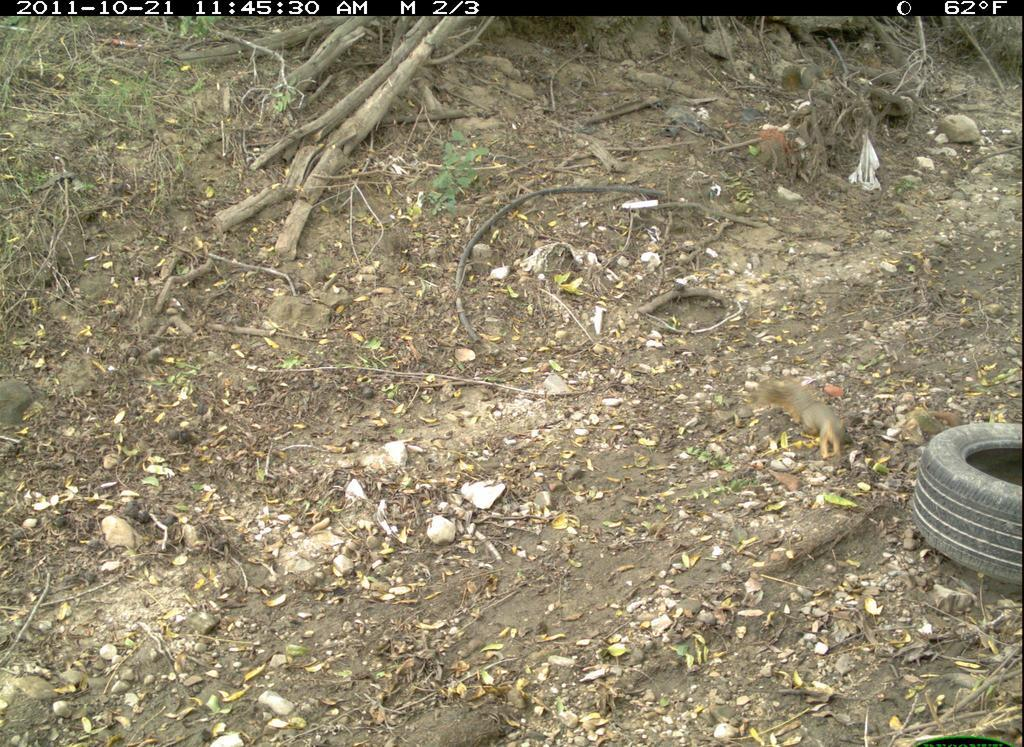squirrel: (747, 360, 863, 468)
